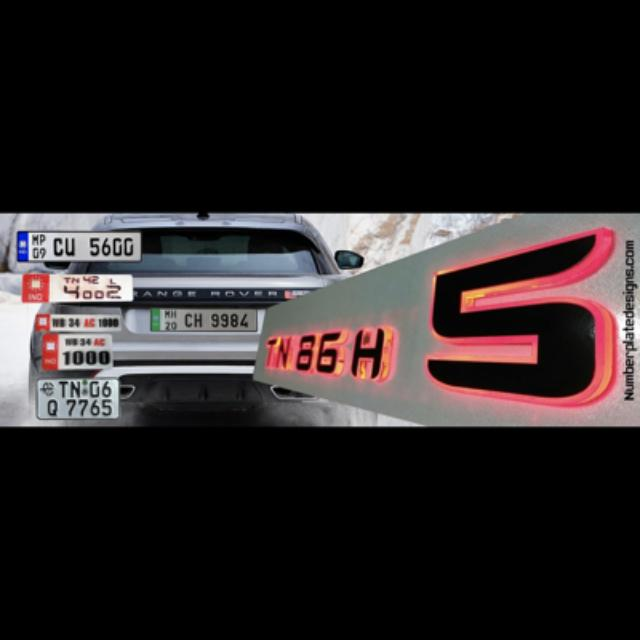carPlate: (17, 231, 142, 261), (36, 378, 118, 418)
